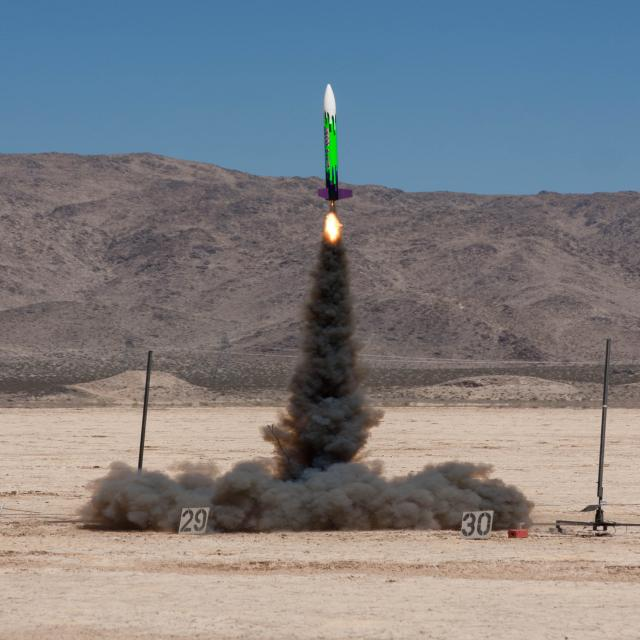Rocket: (316, 83, 355, 203)
